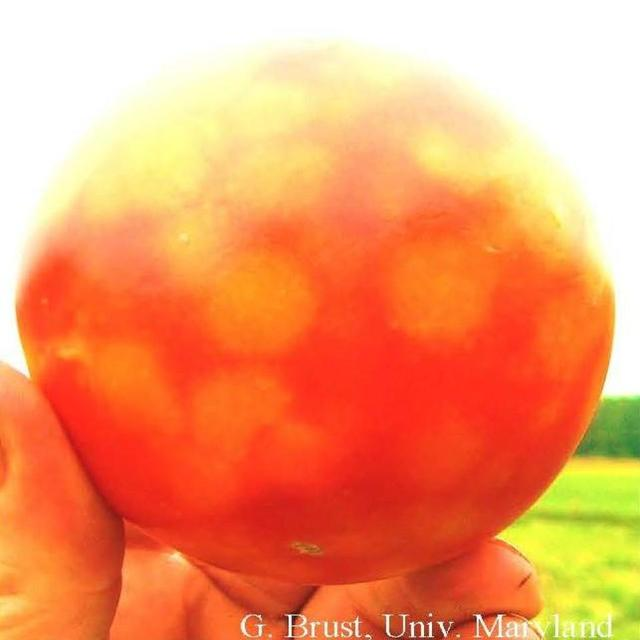Spotted wilt Virus Fruit: (63, 8, 124, 83)
